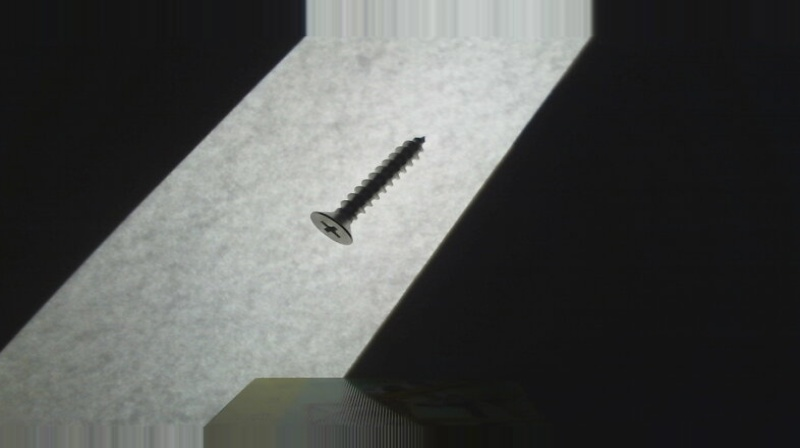S001: (307, 135, 427, 248)
